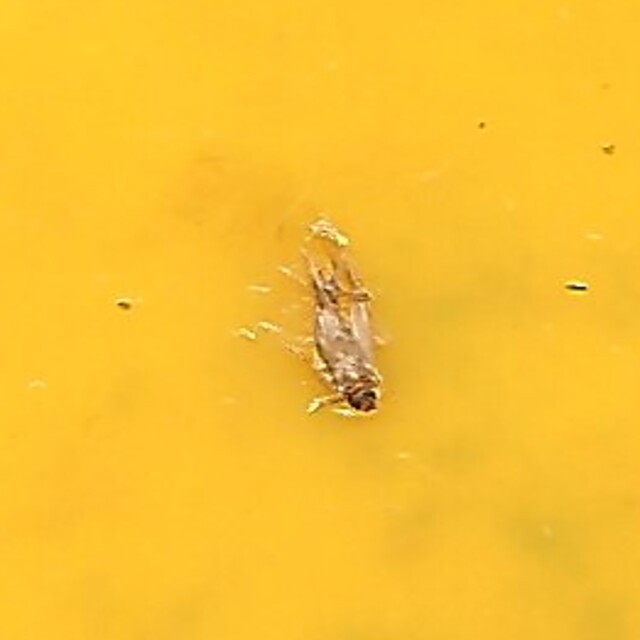Trichoptera: (245, 208, 395, 432)
